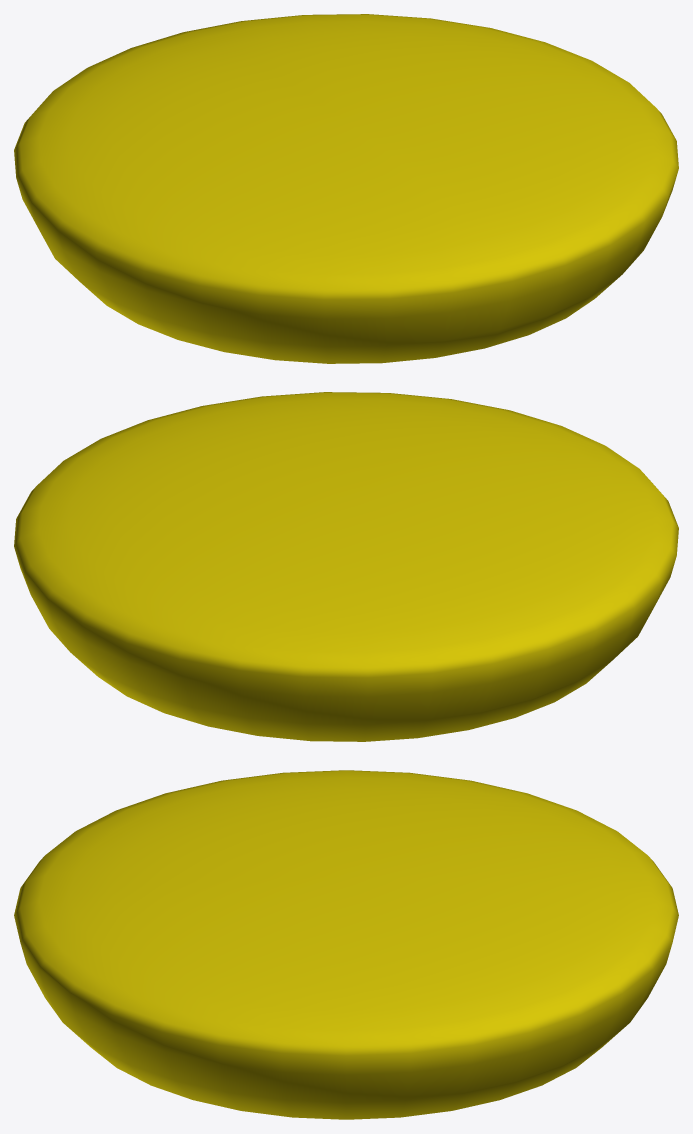
Rendered from stirredYolks.fbx.
3 views of the same model, one above another, from view 1: azimuth 30°, elevation 25°; view 2: azimuth 150°, elevation 25°; view 3: azimuth 270°, elevation 25° (orthographic).
Visible parts, largest first — view 1: Sphere.001; view 2: Sphere.001; view 3: Sphere.001.
Boxes of the visible parts, bbox=[...] form: Sphere.001: bbox=[14, 14, 678, 363]; Sphere.001: bbox=[14, 392, 678, 741]; Sphere.001: bbox=[14, 770, 678, 1119].
Size of the model in its own units: 400 by 115 by 400.
